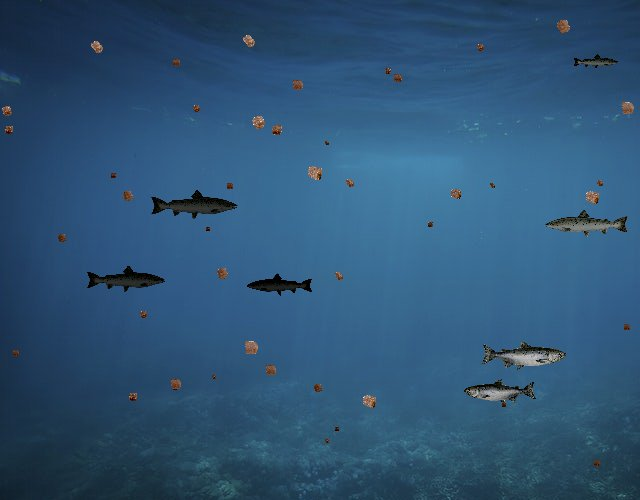Fish: (149, 188, 239, 220), (544, 208, 630, 239), (480, 340, 566, 371), (86, 264, 167, 293), (464, 378, 537, 405), (246, 272, 314, 297), (572, 53, 619, 70)
Pellet: (0, 100, 18, 122), (340, 174, 359, 193), (388, 69, 406, 87), (424, 218, 437, 231), (107, 170, 119, 182), (208, 372, 218, 382)
